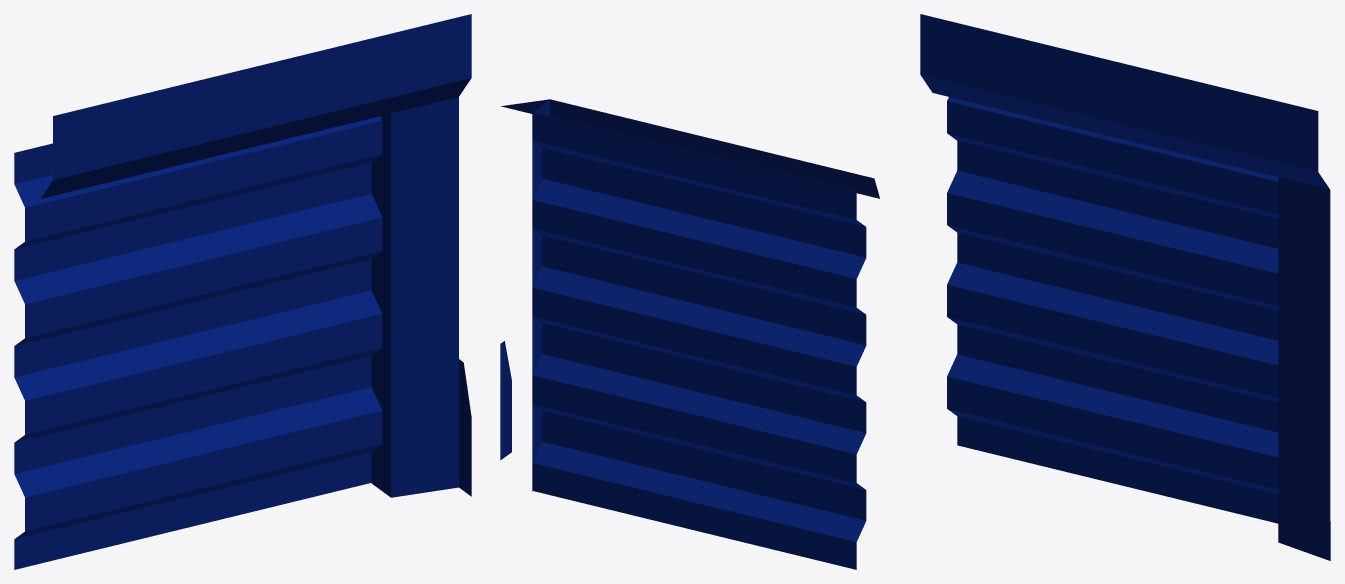
Rendered from mesh_BuildingA_GarageUpperRight_v2.fbx.
The picture shows the model from 3 angles, left to right: view 1: azimuth 30°, elevation 25°; view 2: azimuth 150°, elevation 25°; view 3: azimuth 330°, elevation 25°; orthographic projection. The views are drawn at different scales.
Parts seen in each view (by area): view 1: mesh_BuildingA_GarageUpperRight; view 2: mesh_BuildingA_GarageUpperRight; view 3: mesh_BuildingA_GarageUpperRight.
Part boxes in pixels (left/top/right/bottom): mesh_BuildingA_GarageUpperRight: left=14, top=14, right=471, bottom=569; mesh_BuildingA_GarageUpperRight: left=500, top=99, right=879, bottom=569; mesh_BuildingA_GarageUpperRight: left=920, top=14, right=1330, bottom=560.
Bounding box in the file's own units: 182 × 200 × 29.06.
